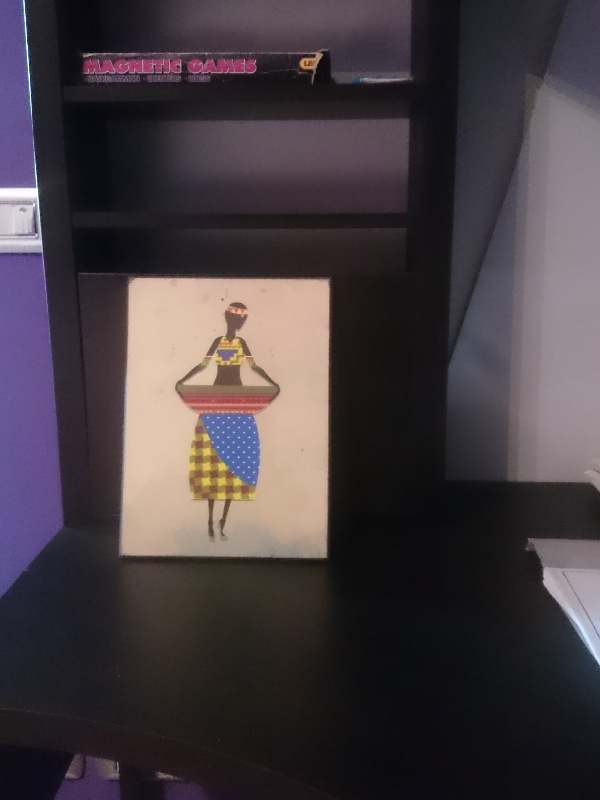my image: (116, 279, 331, 559)
